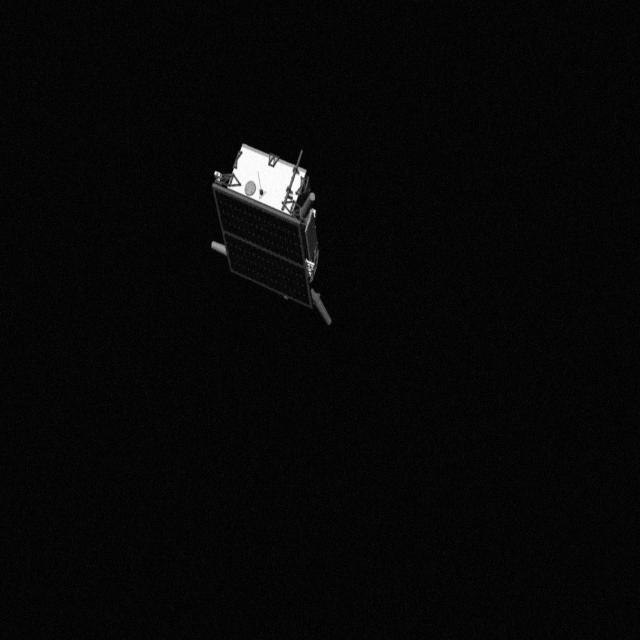medium_debris: (194, 132, 338, 324)
